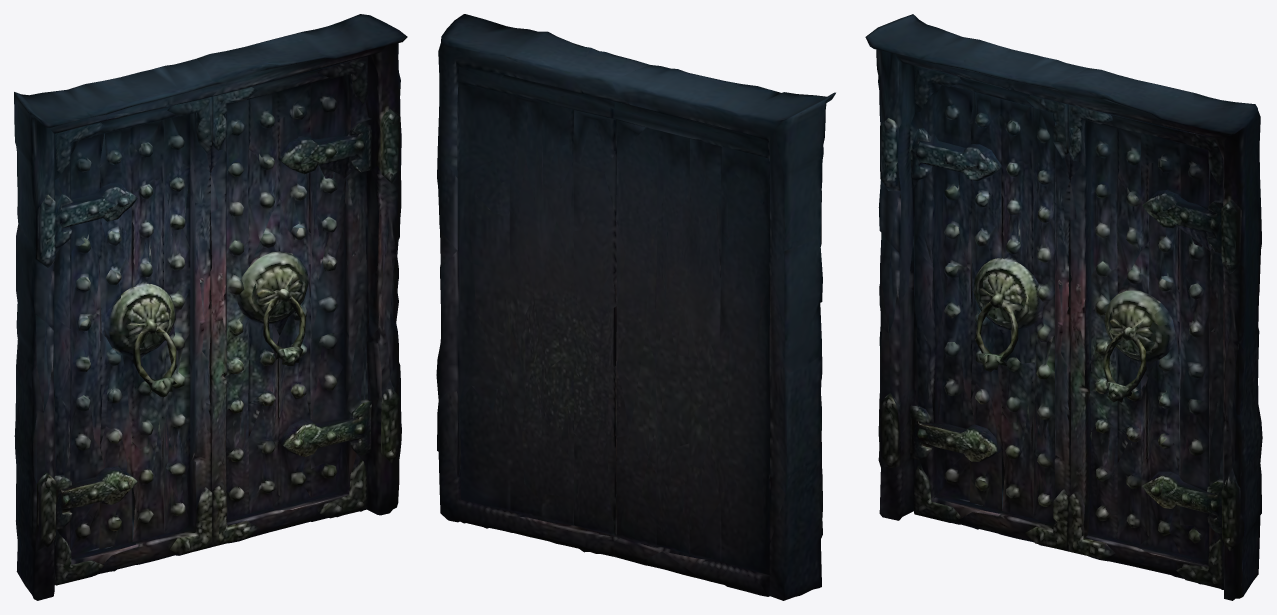
The model's file is 2tile.door.glb.
3 views of the same model, side by side, from view 1: azimuth 30°, elevation 25°; view 2: azimuth 150°, elevation 25°; view 3: azimuth 330°, elevation 25° (orthographic).
Visible parts, largest first — view 1: tripo_part_1, tripo_part_0, tripo_part_3, tripo_part_2, tripo_part_7, tripo_part_6, tripo_part_4, tripo_part_5, tripo_part_9, tripo_part_19, tripo_part_15, tripo_part_8 (+8 smaller); view 2: tripo_part_1, tripo_part_0; view 3: tripo_part_1, tripo_part_0, tripo_part_3, tripo_part_2, tripo_part_4, tripo_part_5, tripo_part_7, tripo_part_6, tripo_part_9, tripo_part_15, tripo_part_19, tripo_part_13 (+8 smaller).
Part boxes in pixels (bbox=[...]): tripo_part_1: bbox=[14, 58, 232, 600]; tripo_part_0: bbox=[197, 14, 407, 543]; tripo_part_3: bbox=[101, 283, 176, 396]; tripo_part_2: bbox=[236, 251, 309, 365]; tripo_part_7: bbox=[278, 123, 371, 178]; tripo_part_6: bbox=[278, 401, 371, 456]; tripo_part_4: bbox=[55, 183, 137, 253]; tripo_part_5: bbox=[54, 466, 137, 529]; tripo_part_9: bbox=[212, 482, 258, 546]; tripo_part_19: bbox=[35, 471, 56, 551]; tripo_part_15: bbox=[381, 379, 401, 463]; tripo_part_8: bbox=[318, 454, 368, 518]; tripo_part_1: bbox=[612, 65, 835, 600]; tripo_part_0: bbox=[436, 14, 649, 557]; tripo_part_1: bbox=[865, 14, 1087, 551]; tripo_part_0: bbox=[1050, 68, 1262, 600]; tripo_part_3: bbox=[972, 257, 1044, 371]; tripo_part_2: bbox=[1103, 290, 1175, 402]; tripo_part_4: bbox=[910, 128, 1001, 189]; tripo_part_5: bbox=[910, 405, 997, 461]; tripo_part_7: bbox=[1142, 190, 1221, 253]; tripo_part_6: bbox=[1142, 471, 1223, 533]; tripo_part_9: bbox=[1067, 491, 1115, 559]; tripo_part_15: bbox=[1221, 468, 1244, 550]; tripo_part_19: bbox=[880, 393, 900, 468]; tripo_part_13: bbox=[1221, 199, 1241, 274].
Size of the model in its own units: 0.776 by 0.9789 by 0.1434.
1 material, 1 textured.
